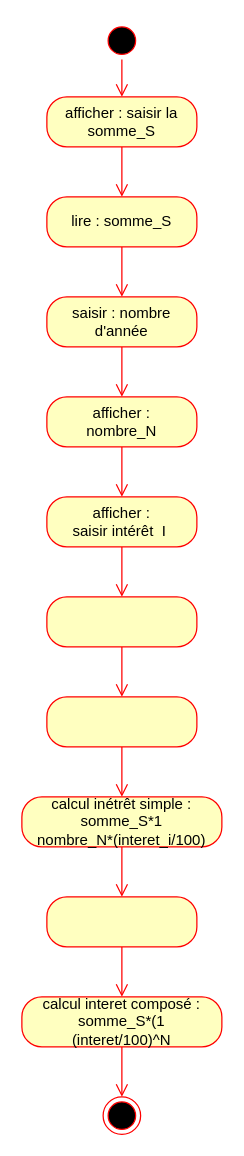
Some shapes in this 244 by 1156 pixel diagram are drawn without their labels. The centre of each missing label's shape, as x and y in pixels:
"afficher : intérêt composé est de :" goes at point 121,921.
"afficher : l'intérêt simple est de :" goes at point 121,721.
"lire : interet_i" goes at point 121,621.
